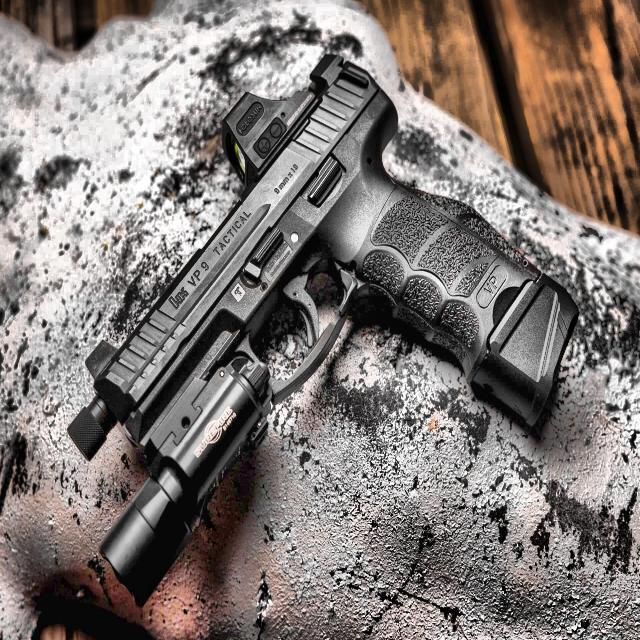HKVP9: (68, 50, 580, 606)
